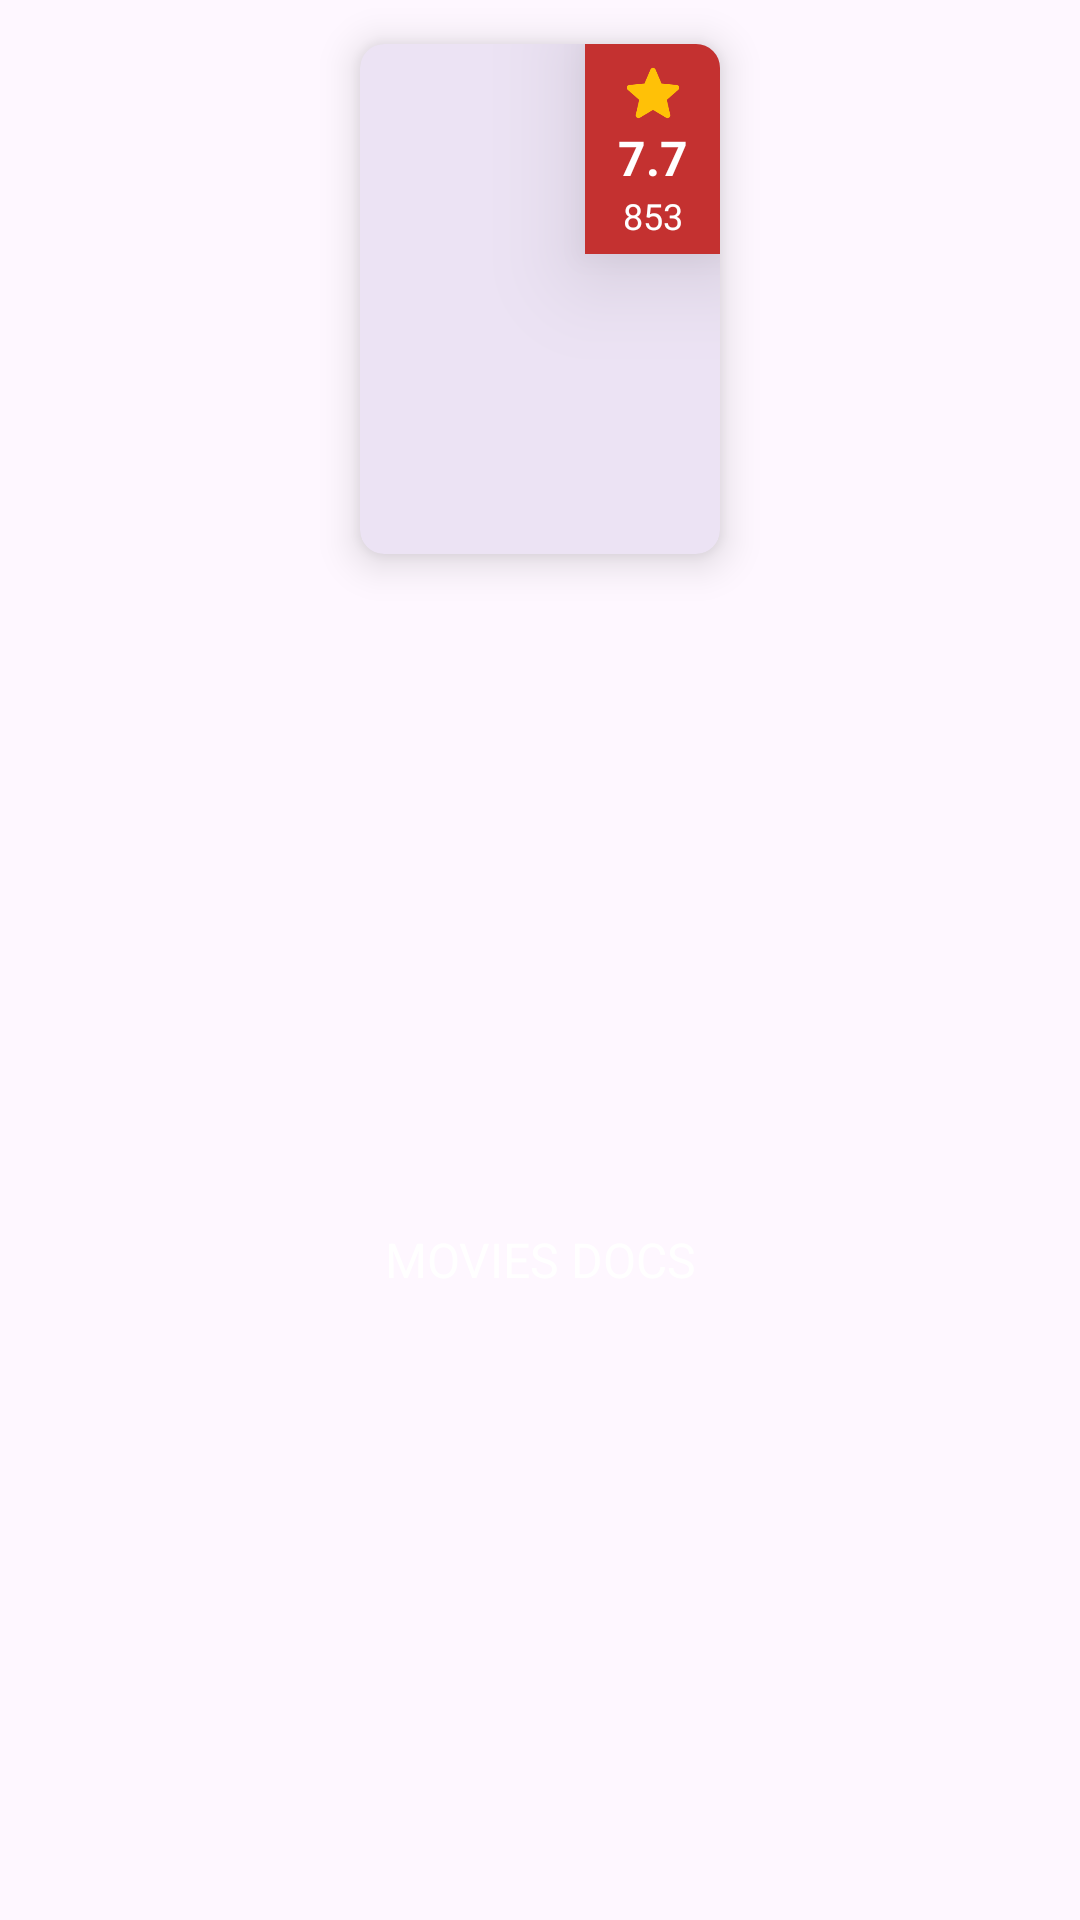

Where to tap for icons on this 1080px x 1920px app screen, as (x,y):
star rating: (653,93)
